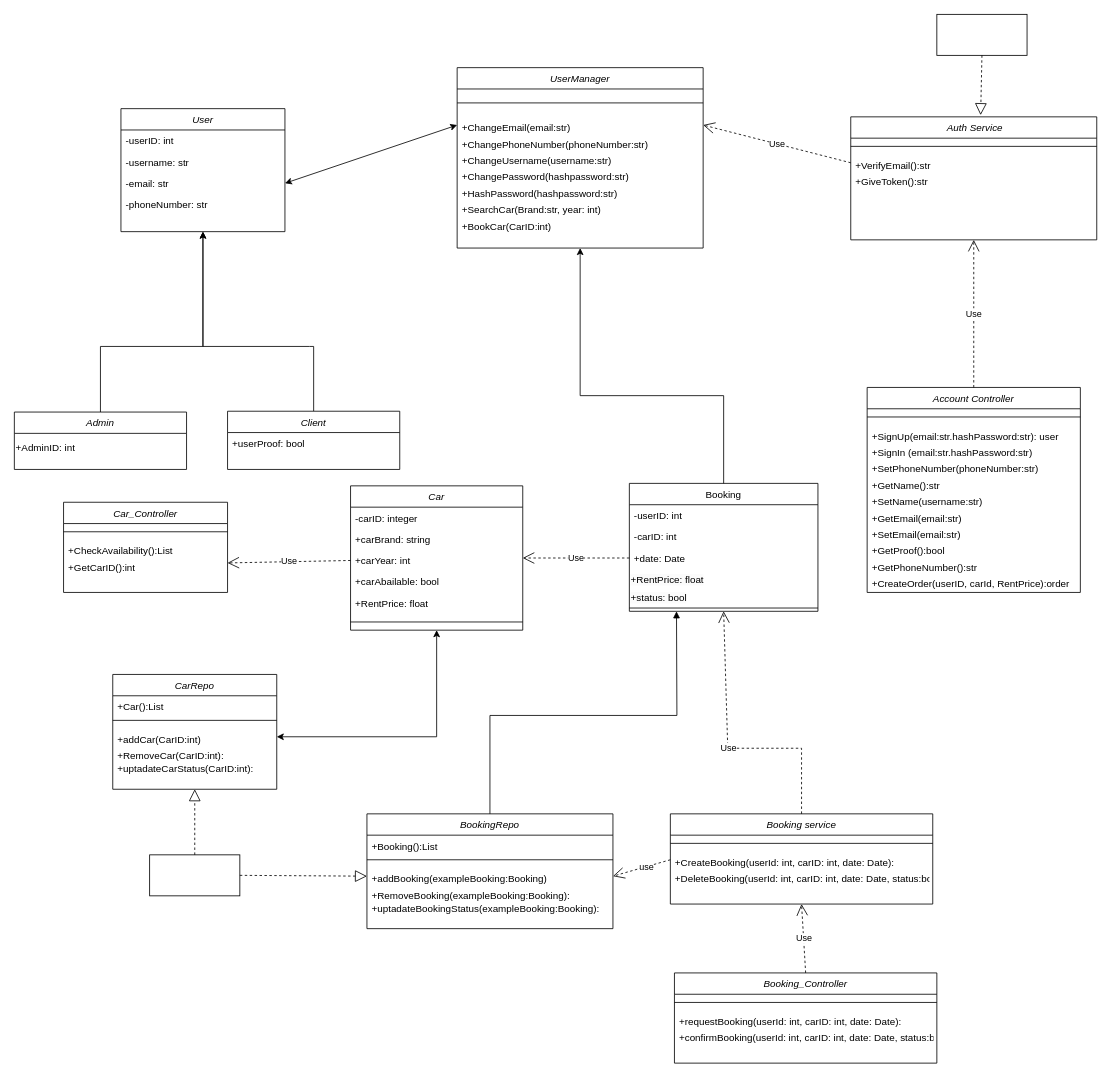
This 1111x1077 diagram has some shape labels left out. Here are the shapes that lost their labels. From the top down, the centre of each, then its label:
(981,34): "interface" iBaseAuthInterface
(194,875): "interface" iBaseRepo
